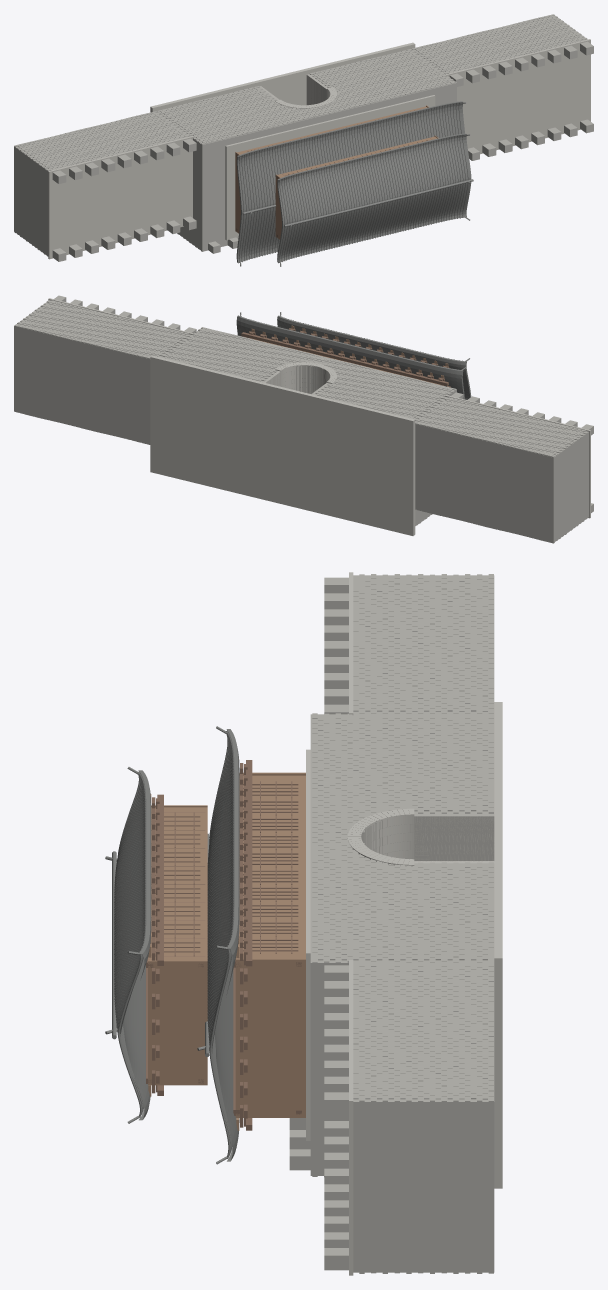
Rendered from SM_Zhengximen_LOD0.glb.
3 renders of one model, top to bottom at view 1: azimuth 30°, elevation 25°; view 2: azimuth 150°, elevation 25°; view 3: azimuth 270°, elevation 25°, orthographic. The views are drawn at different scales.
Parts seen in each view (by area): view 1: GrayBrick, StoneFoundation, ClayRoofTile, AgedWood; view 2: GrayBrick, StoneFoundation, ClayRoofTile, DarkTimber, AgedWood; view 3: GrayBrick, AgedWood, ClayRoofTile, DarkTimber, StoneFoundation.
Part boxes in pixels (bbox=[...]): GrayBrick: bbox=[14, 14, 593, 261]; StoneFoundation: bbox=[48, 39, 590, 259]; ClayRoofTile: bbox=[236, 101, 473, 266]; AgedWood: bbox=[235, 105, 438, 239]; GrayBrick: bbox=[14, 295, 593, 543]; StoneFoundation: bbox=[48, 298, 590, 535]; ClayRoofTile: bbox=[236, 312, 471, 399]; DarkTimber: bbox=[241, 328, 450, 387]; AgedWood: bbox=[249, 325, 448, 385]; GrayBrick: bbox=[289, 574, 494, 1273]; AgedWood: bbox=[148, 759, 305, 1130]; ClayRoofTile: bbox=[105, 726, 239, 1164]; DarkTimber: bbox=[146, 760, 301, 1130]; StoneFoundation: bbox=[306, 572, 502, 1275].
Bounding box in the file's own units: 53.2 × 10.8 × 16.9.
